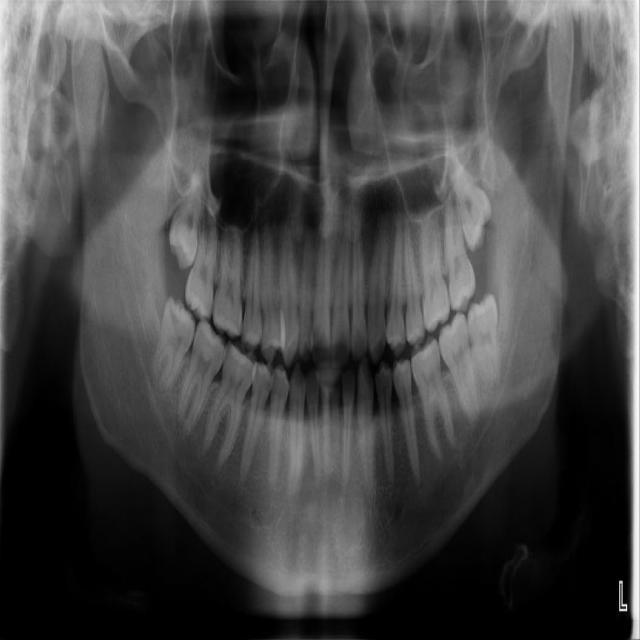3M ESPE Implant: (161, 163, 216, 272)
BioHorizons Implant: (442, 182, 478, 315)
BioLife Implant: (445, 151, 502, 255)
Biomet 3i Implant: (465, 291, 503, 399)
Blue Sky Bio Implant: (434, 311, 483, 427)
Caries: (183, 187, 224, 322)
Implant: (172, 317, 233, 437)
Keystone Dental Implant: (146, 295, 202, 397)
